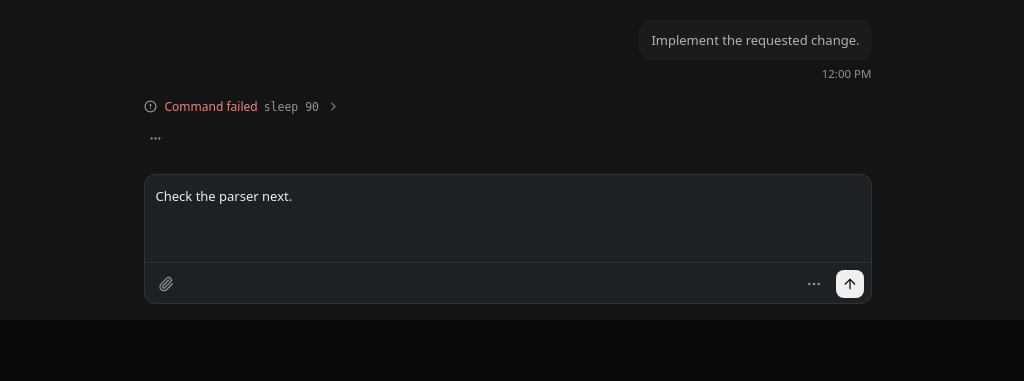
Test: Agent session interactions › reveals the stored command and permission error instead of an empty failed-tool disclosure
The width and height of the screenshot is (1024, 381).
Expected: the text "Permission was declined." is not shown
Click the button "Command failed sleep 90" at (211, 106), box [144,94,872,118]
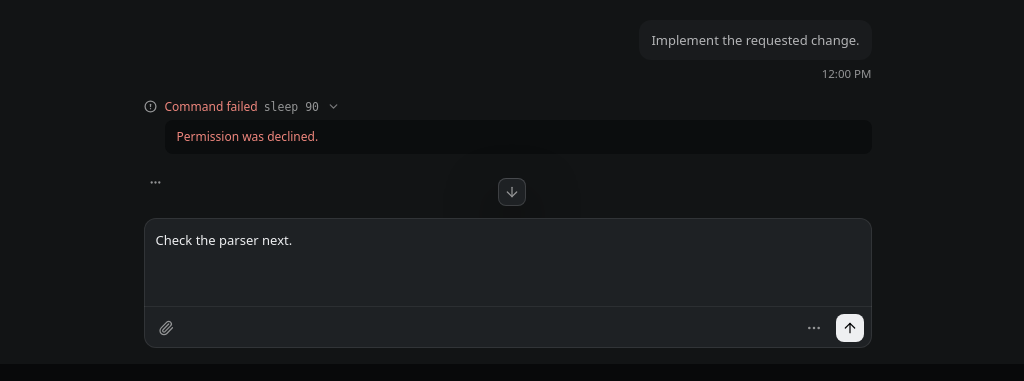
Expected: the button "Command failed sleep 90" is expanded, [144,94,872,118]
Expected: the text "Permission was declined." is shown, [176,128,318,145]
